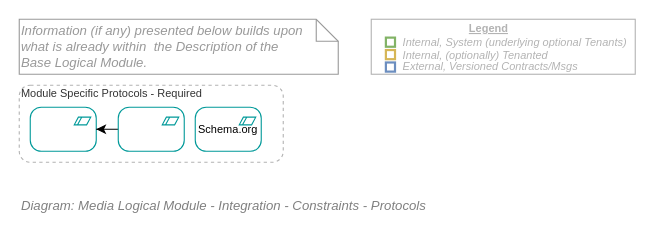
Image size: 655x237. Some labels were removed from this diagram. Here are the shapes that lost their labels. From the top down, the centre of each, then its label:
[62,128]: Dublin Core
[150,128]: Dublin Core Metadata Initiative
